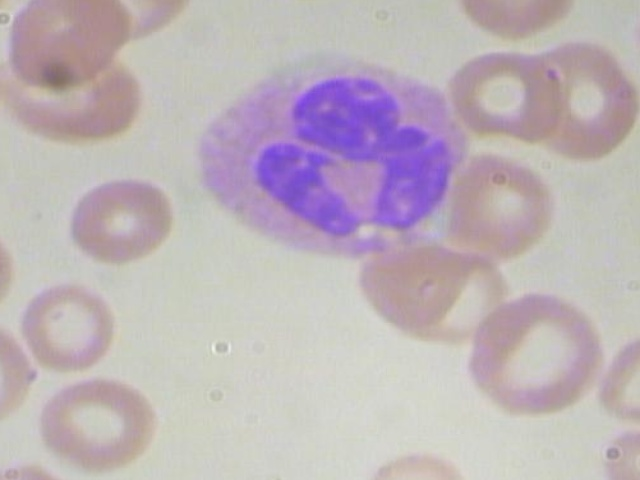RBC: (452, 289, 611, 420), (518, 37, 640, 167), (433, 146, 559, 265), (24, 374, 163, 474), (439, 47, 570, 145), (57, 172, 182, 267), (354, 235, 478, 330), (15, 275, 126, 374), (590, 328, 640, 429), (357, 440, 469, 480), (0, 320, 38, 432), (587, 418, 640, 480), (0, 219, 32, 319), (639, 0, 640, 91)
WBC: (179, 39, 491, 285)
